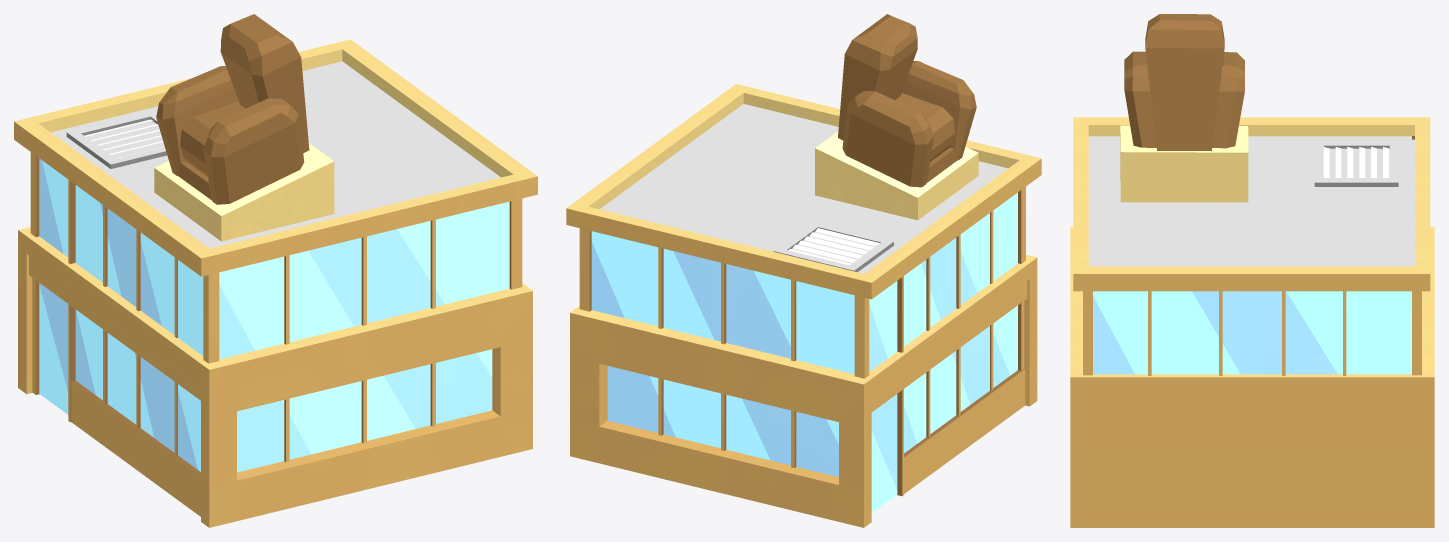
Rendered from tile_for_home_1x1.006 (3) furniture.glb.
3 views of the same model, side by side, from view 1: azimuth 30°, elevation 25°; view 2: azimuth 150°, elevation 25°; view 3: azimuth 270°, elevation 25° (orthographic). The views are drawn at different scales.
Parts seen in each view (by area): view 1: services.006; view 2: services.006; view 3: services.006.
Part boxes in pixels (x1,y1,x2,y2): services.006: (14,14,537,527); services.006: (566,14,1041,527); services.006: (1070,14,1434,527).
Size of the model in its own units: 6.03 by 7.41 by 5.93.
1 material, 1 textured.
